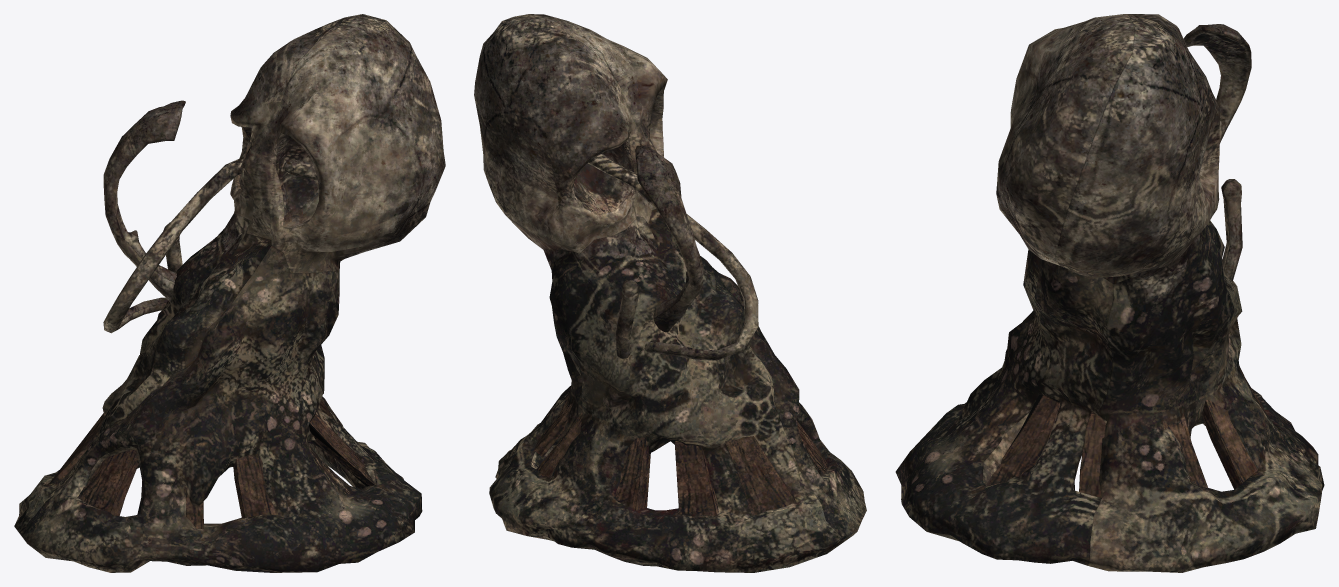
Rendered from fetish_skull.DAE.
3 views of the same model, side by side, from view 1: azimuth 30°, elevation 25°; view 2: azimuth 150°, elevation 25°; view 3: azimuth 270°, elevation 25° (orthographic). The views are drawn at different scales.
Parts seen in each view (by area): view 1: fetish_skull; view 2: fetish_skull; view 3: fetish_skull.
Part boxes in pixels (left/top/right/bottom): fetish_skull: left=14, top=14, right=445, bottom=572; fetish_skull: left=474, top=14, right=866, bottom=572; fetish_skull: left=895, top=14, right=1324, bottom=572.
Bounding box in the file's own units: 0.4491 × 0.3631 × 0.5144.
